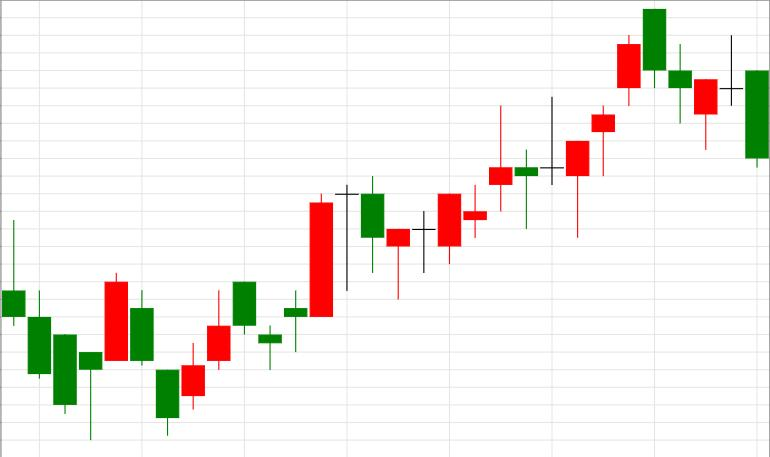hanging_man_fall: (386, 97, 590, 300)
